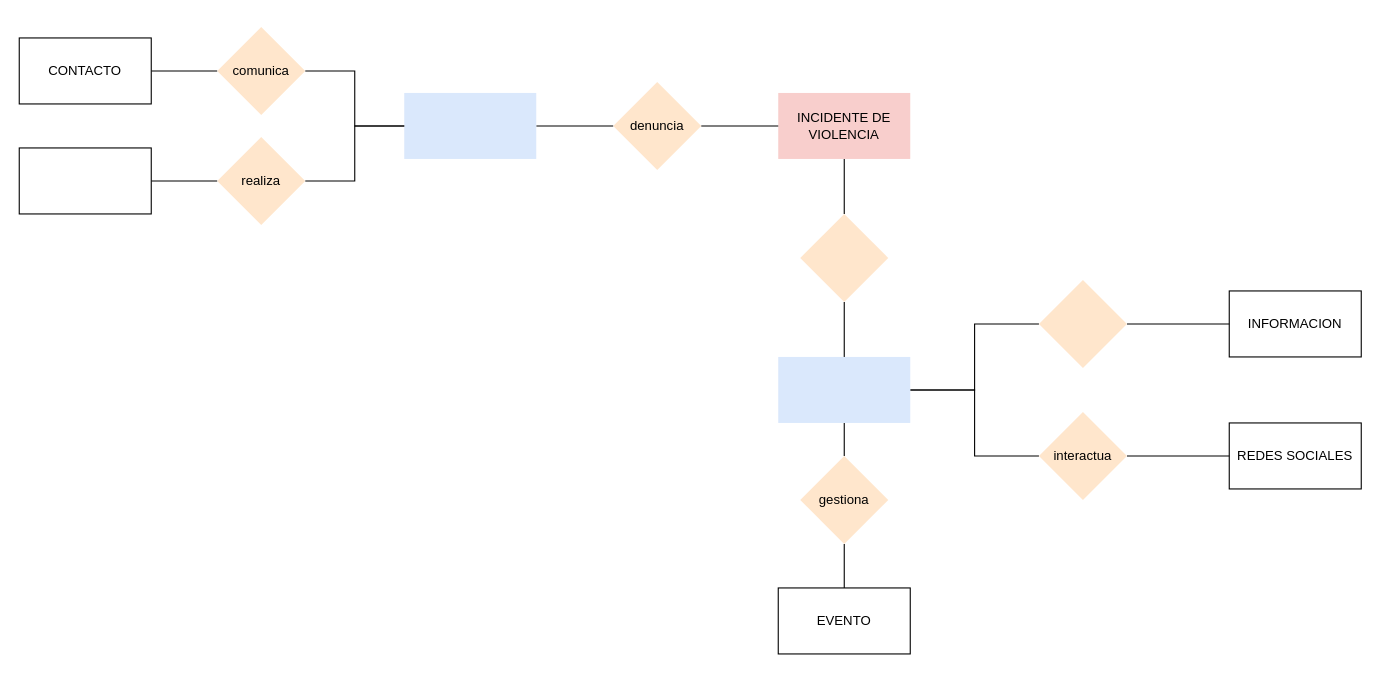
Image size: 1381x673. Some labels were removed from this diagram. Each missing label, with the centre of its shape:
"ADMINISTRARDOR" belongs at (x=844, y=389).
"agraga" belongs at (x=1082, y=323).
"evalua riezgo" belongs at (x=844, y=257).
"PREGUNTA" belongs at (x=84, y=180).
"USUARIO" belongs at (x=470, y=125).
